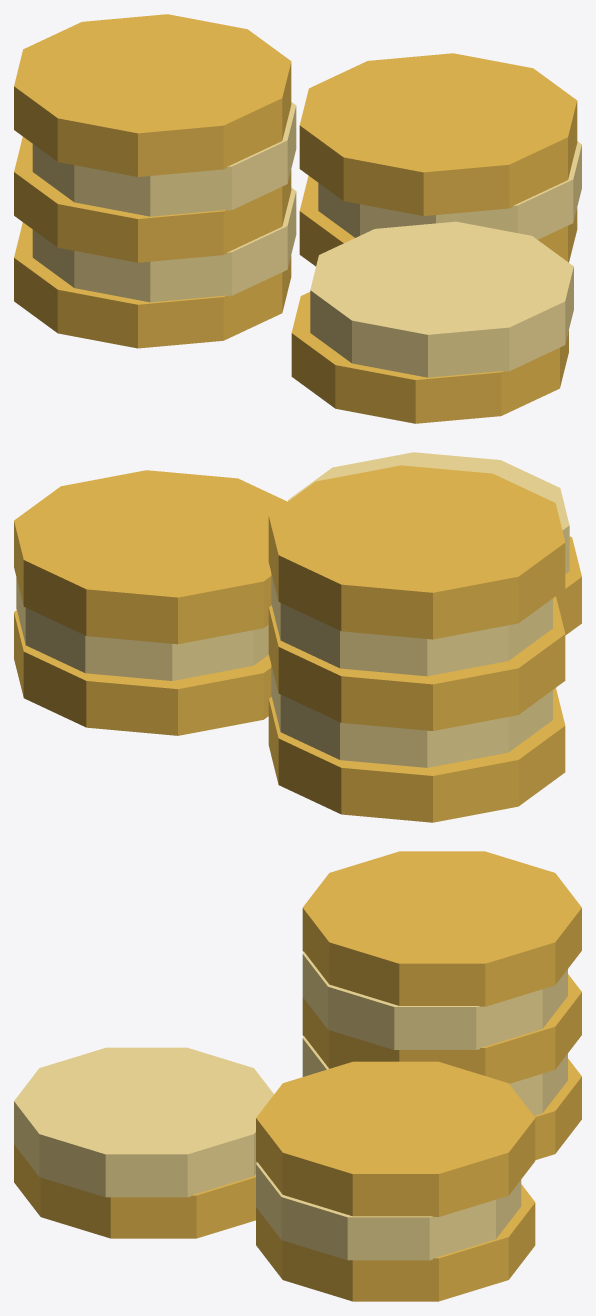
The model's file is CleanACat_Prop_CoinStack.fbx.
The picture shows the model from 3 angles, top to bottom: view 1: azimuth 30°, elevation 25°; view 2: azimuth 150°, elevation 25°; view 3: azimuth 270°, elevation 25°; orthographic projection. The views are drawn at different scales.
Parts seen in each view (by area): view 1: CleanACat_Prop_CoinStack; view 2: CleanACat_Prop_CoinStack; view 3: CleanACat_Prop_CoinStack.
Part boxes in pixels (x1,y1,x2,y2): CleanACat_Prop_CoinStack: (14,14,581,423); CleanACat_Prop_CoinStack: (14,452,581,822); CleanACat_Prop_CoinStack: (14,851,581,1301).
Size of the model in its own units: 1.22 by 0.502 by 1.22.
1 material, 1 textured.
